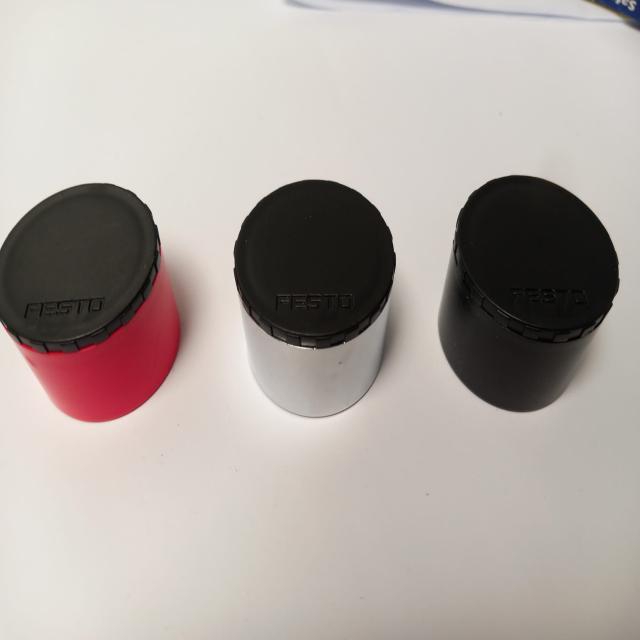Workpiece: (221, 176, 415, 428), (434, 172, 617, 432), (0, 186, 190, 424)
